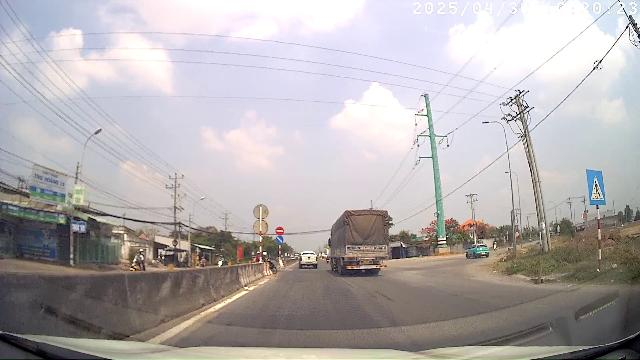102-cam-di-nguoc-chieu: (276, 226, 284, 234)
302a-huong-phai-di-vong-chuong-ngai-vat-1: (276, 235, 284, 243)
423a-duong-nguoi-di-bo-sang-ngang-1: (587, 170, 605, 205)
